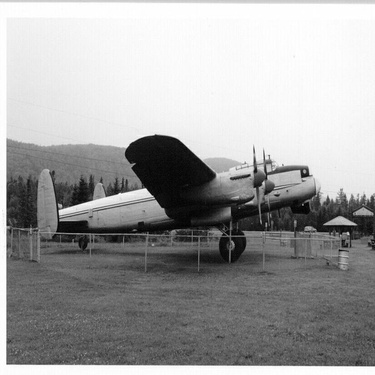airplane: (24, 130, 323, 256)
